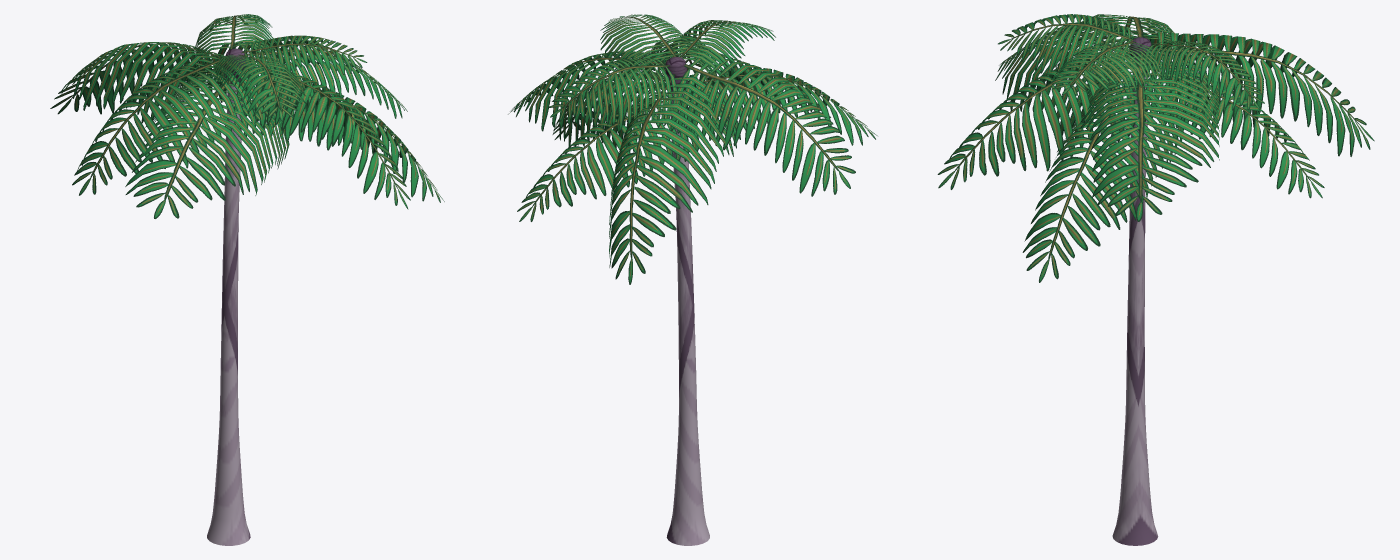
File: ManaPalm1.obj
3 views of the same model, side by side, from view 1: azimuth 30°, elevation 25°; view 2: azimuth 150°, elevation 25°; view 3: azimuth 270°, elevation 25° (orthographic). The views are drawn at different scales.
Parts seen in each view (by area): view 1: pPlane2; view 2: pPlane2; view 3: pPlane2.
Part boxes in pixels (<box>): pPlane2: <box>50,14,444,545</box>; pPlane2: <box>508,14,877,545</box>; pPlane2: <box>937,14,1374,545</box>.
Bounding box in the file's own units: 10.66 × 14.3 × 11.66.
Materials: 3 (3 with a texture image).
